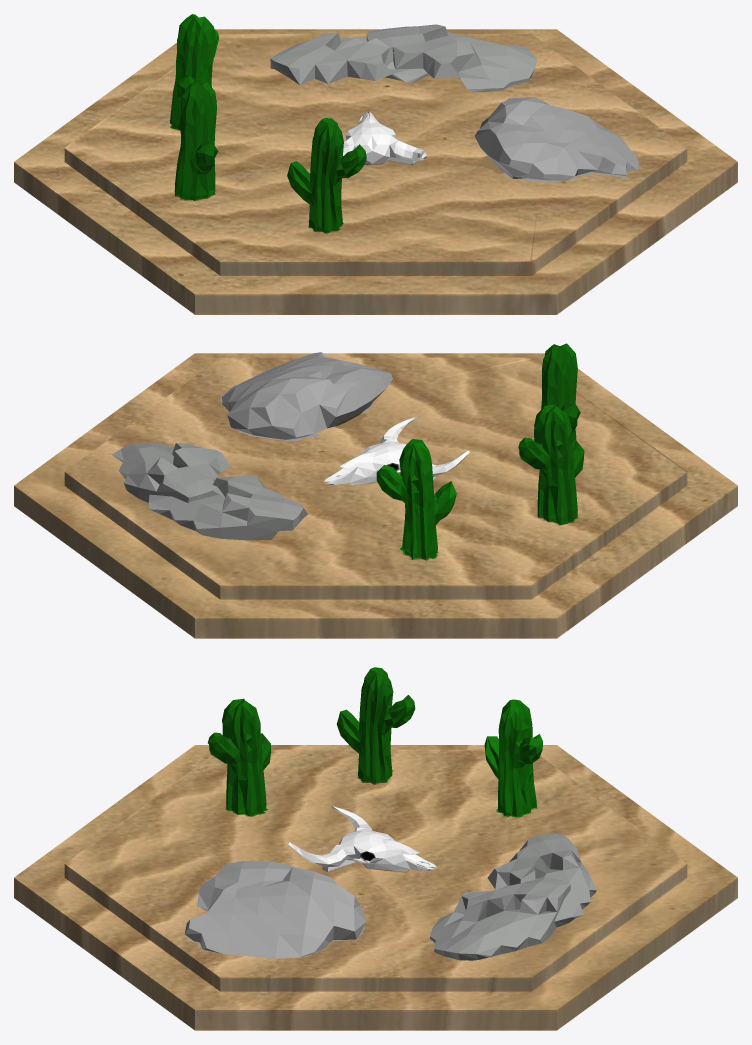
The model's file is Desert.fbx.
3 views of the same model, one above another, from view 1: azimuth 30°, elevation 25°; view 2: azimuth 150°, elevation 25°; view 3: azimuth 270°, elevation 25° (orthographic).
Parts seen in each view (by area): view 1: node_id5; view 2: node_id5; view 3: node_id5.
Boxes of the visible parts, x1,y1,x2,y2 form: node_id5: (14, 14, 737, 314); node_id5: (14, 343, 737, 638); node_id5: (14, 667, 737, 1030).
Size of the model in its own units: 0.4434 by 0.1117 by 0.512.
1 material, 1 textured.
